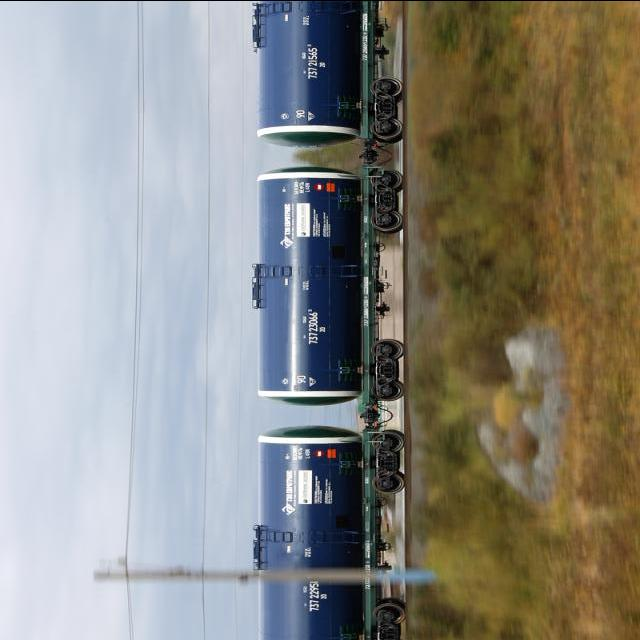wagon: (306, 578, 322, 614), (306, 310, 322, 343), (306, 46, 320, 79), (362, 306, 372, 326), (364, 571, 372, 589), (362, 42, 368, 60)
